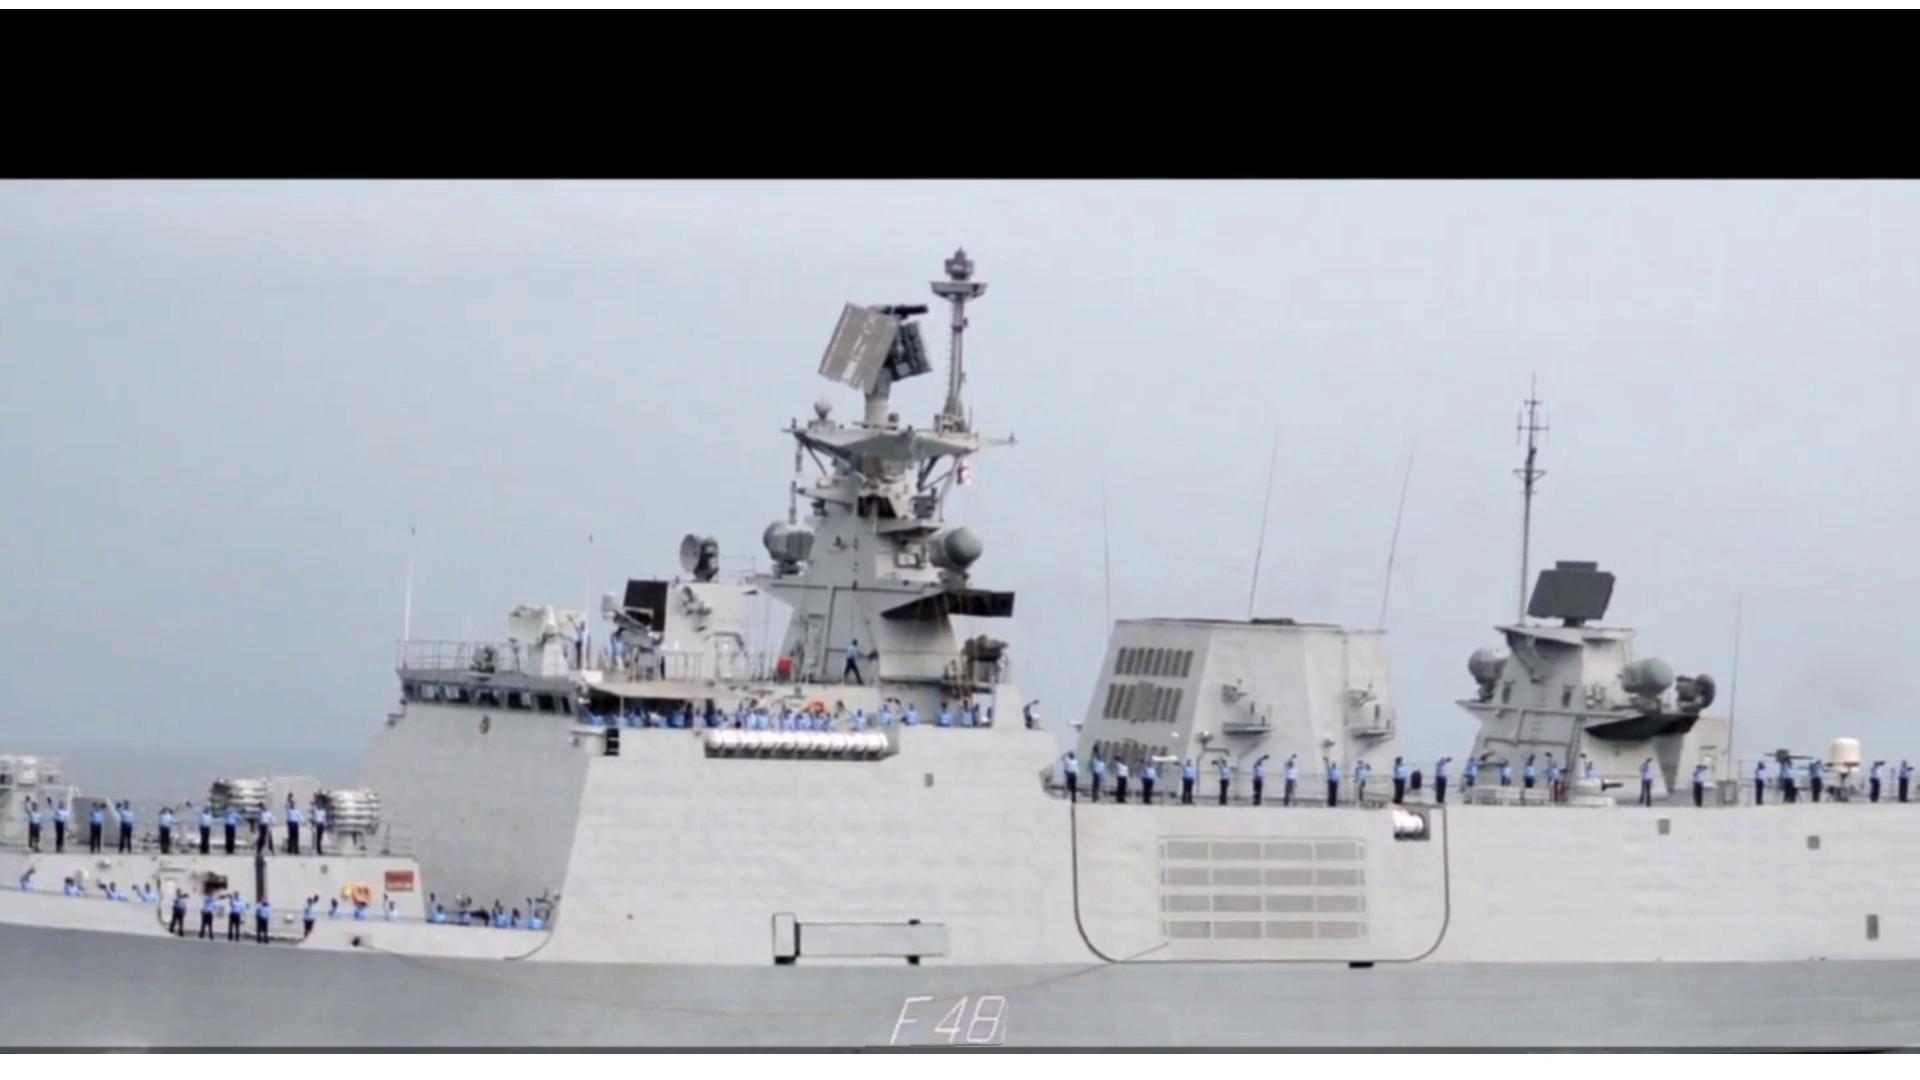OCR: (854, 987, 1014, 1049)
